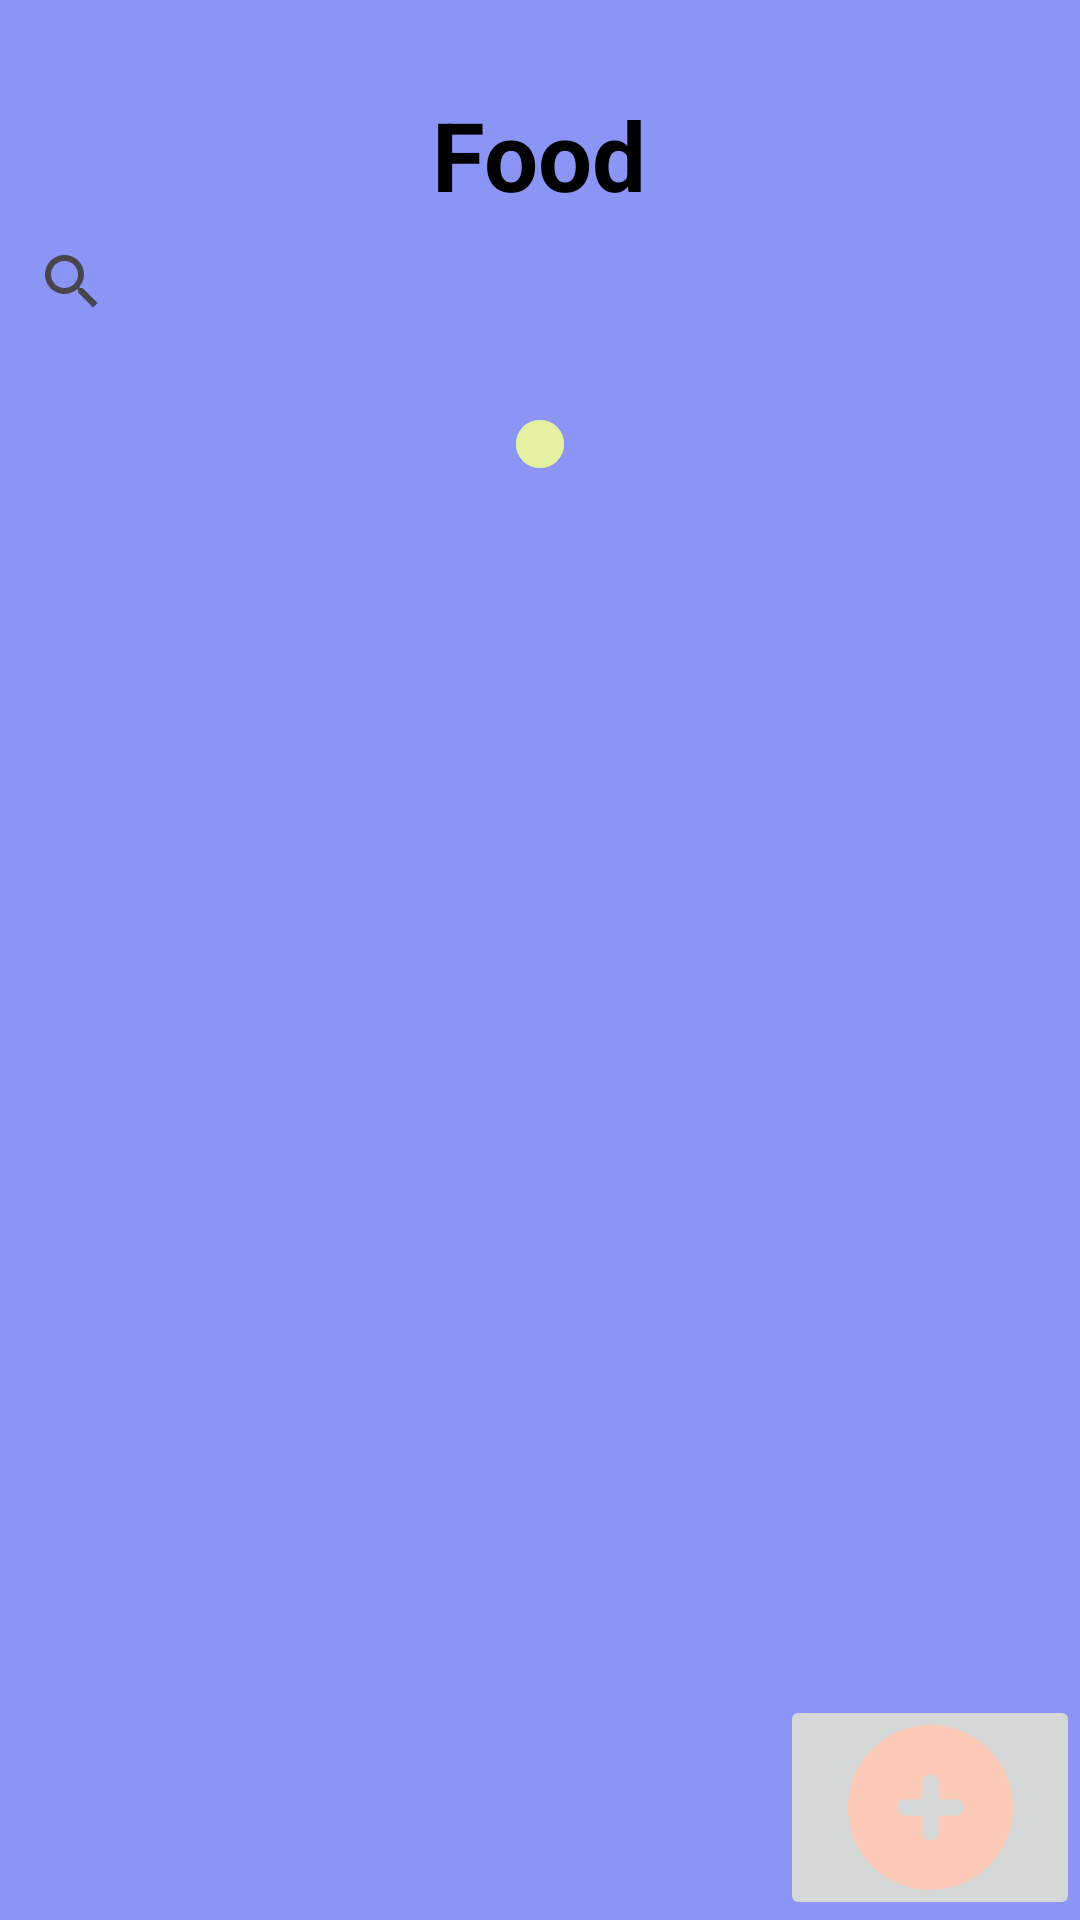

Icon bounding boxes for this 1080*1920 phone screenshot, format (x1, y1, x2, y2):
Add Item: (792, 1713, 1068, 1902)
